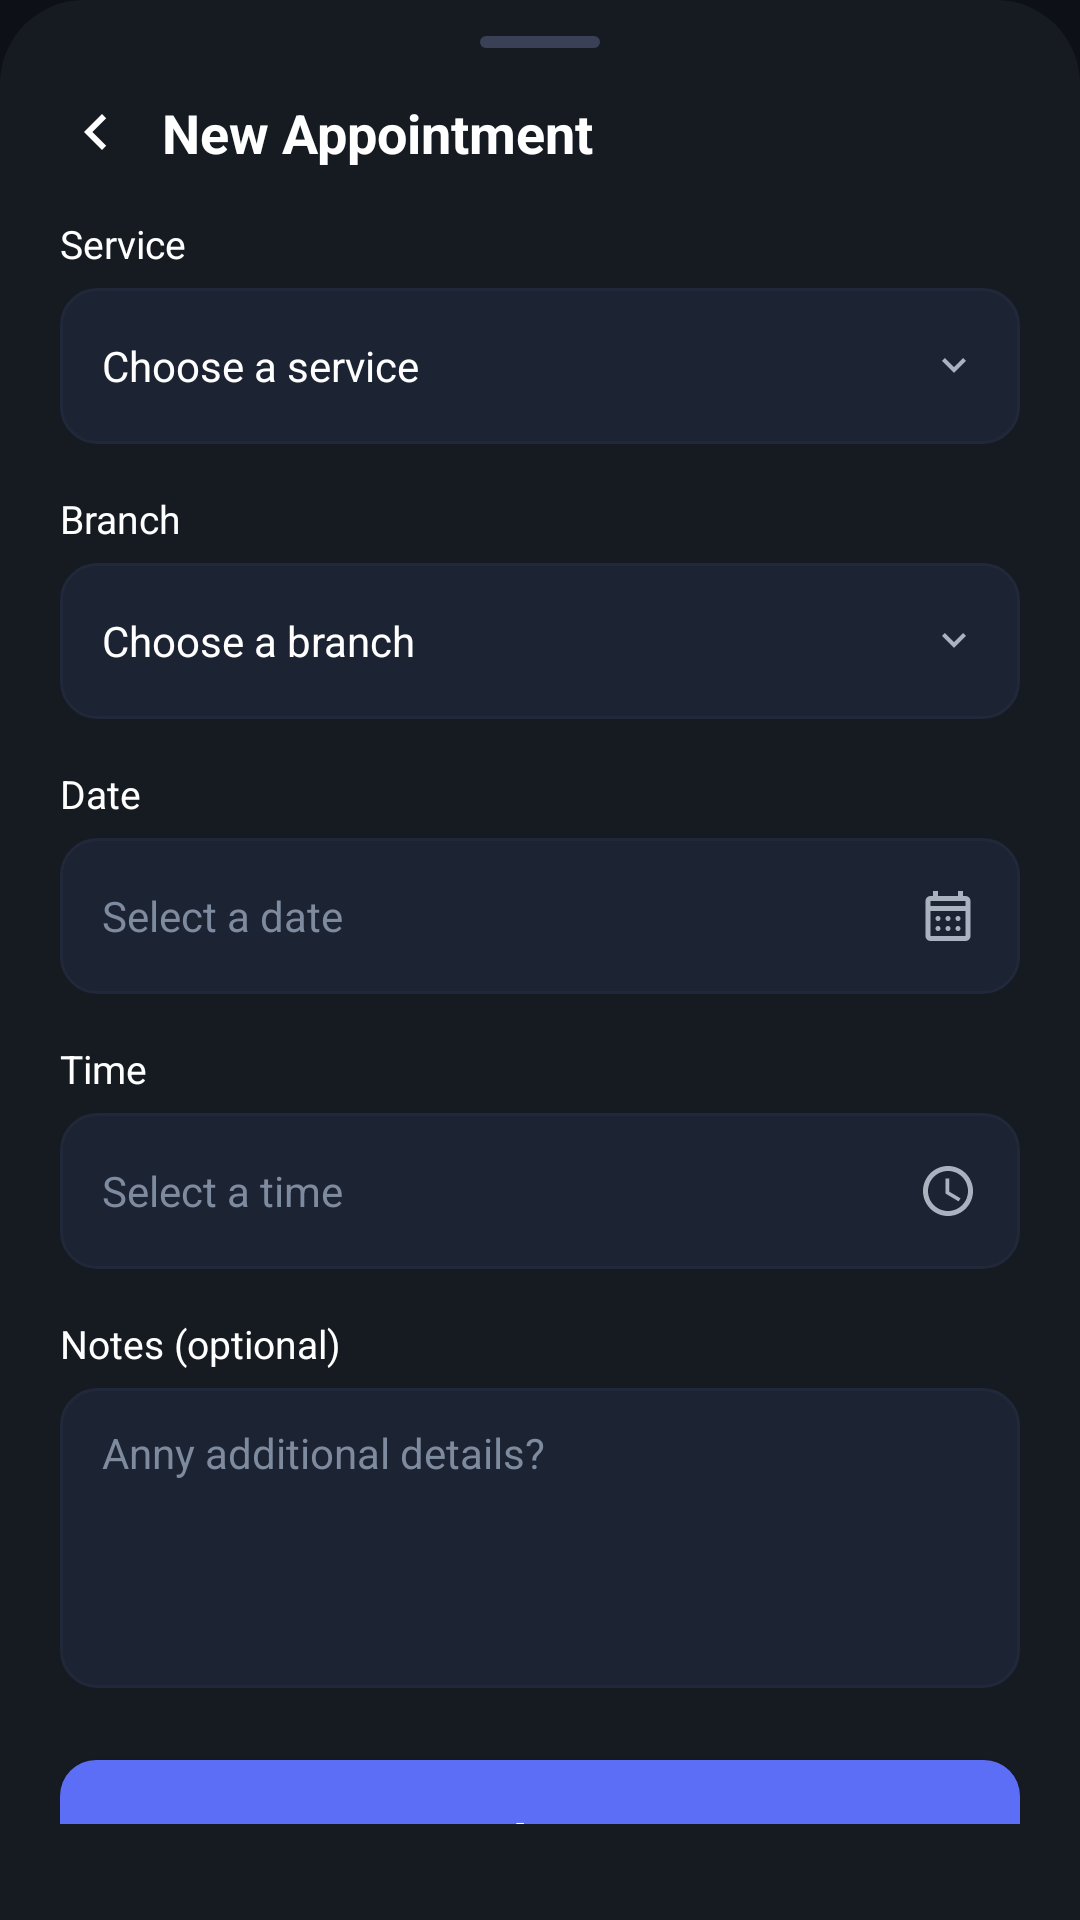

Screen size 1080*1920. Icon name, then its box in pixels as box=[x1, y1, x2, y2]:
arrow left: box=[84, 114, 106, 150]
booking: box=[925, 891, 971, 941]
